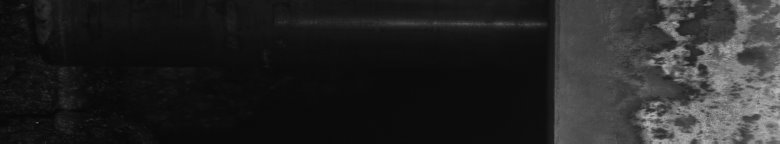kb: (636, 4, 774, 136)
